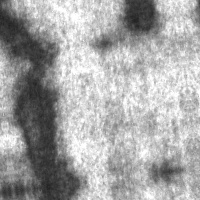patches: (3, 61, 81, 191), (0, 0, 60, 80), (118, 0, 160, 35)
